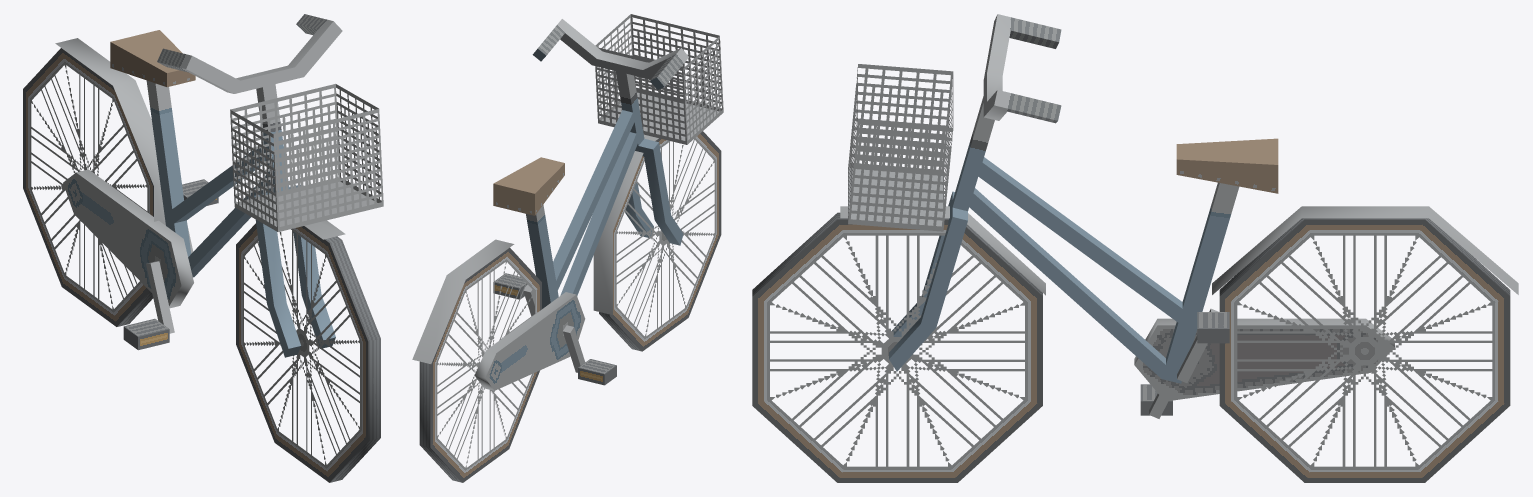
The model's file is 0519_Bicycle.glb.
3 views of the same model, side by side, from view 1: azimuth 30°, elevation 25°; view 2: azimuth 150°, elevation 25°; view 3: azimuth 270°, elevation 25° (orthographic). The views are drawn at different scales.
Visible parts, largest first — view 1: part_0; view 2: part_0; view 3: part_0.
Boxes of the visible parts, x1=… form: part_0: x1=23, y1=14, x2=383, y2=482; part_0: x1=412, y1=14, x2=723, y2=482; part_0: x1=752, y1=14, x2=1518, y2=482.
Bounding box in the file's own units: 0.5364 × 1.27 × 2.07.
Materials: 1 (1 with a texture image).
